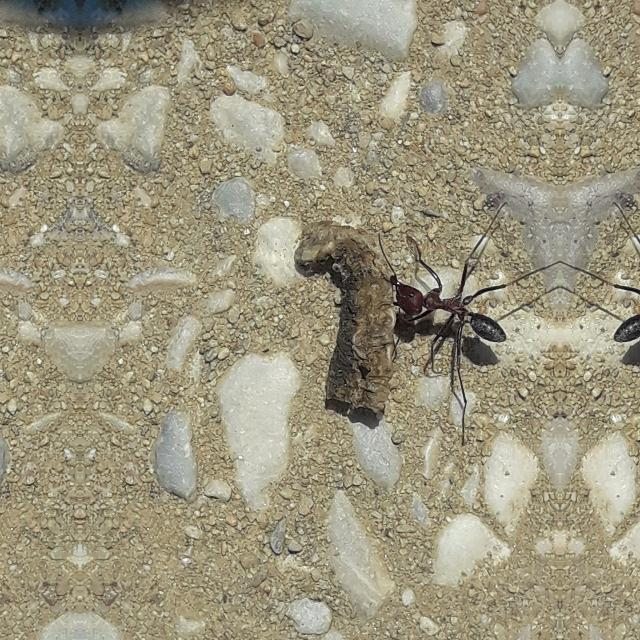Cataglyphis: (382, 248, 518, 374), (602, 248, 640, 374)
